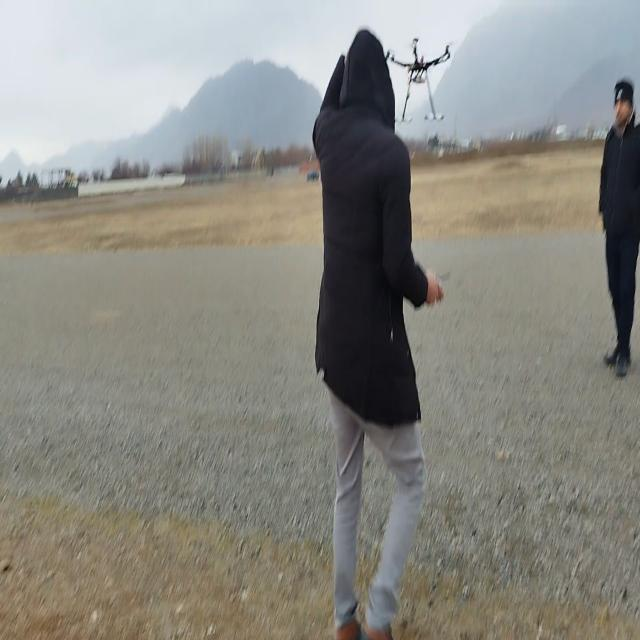drone: (395, 35, 456, 124)
